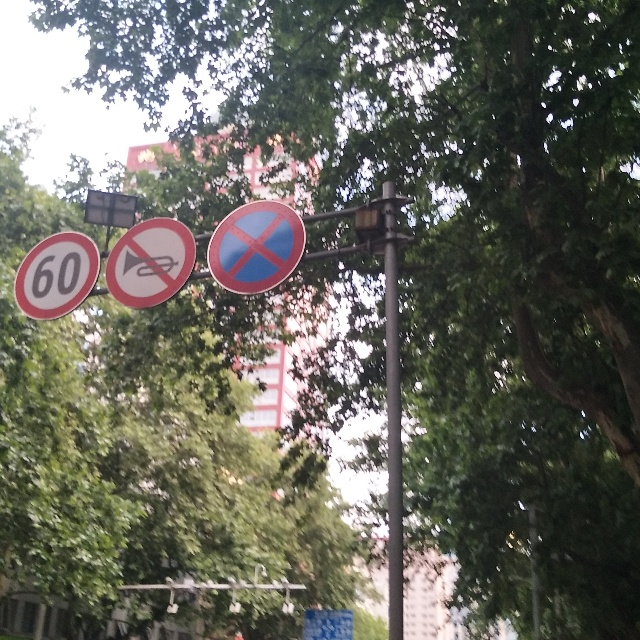nohonk: (101, 215, 199, 310)
stop: (206, 201, 308, 293)
